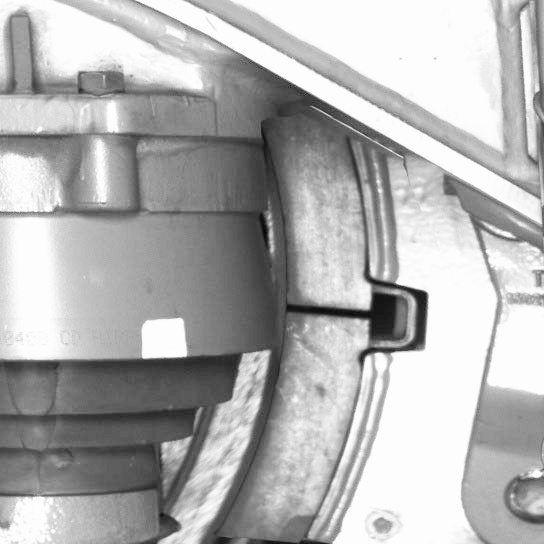ClosedKnifeSwitch: (139, 136, 395, 540)
